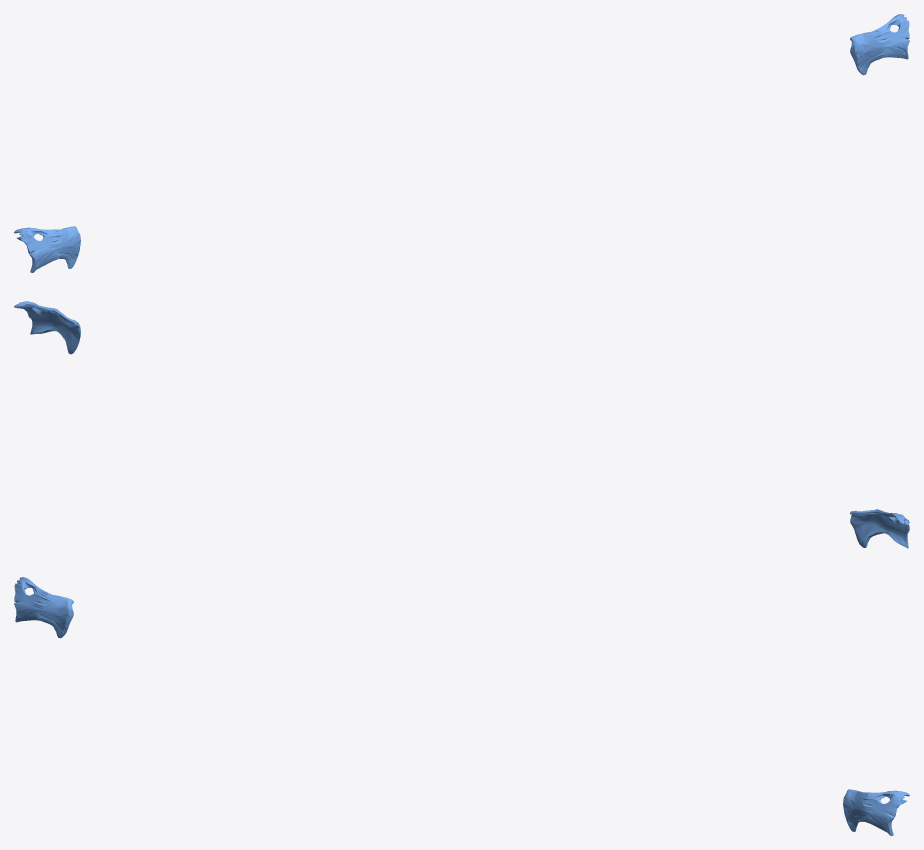
The model's file is supplement-wrist-hand-connective.glb.
3 renders of one model, top to bottom at view 1: azimuth 30°, elevation 25°; view 2: azimuth 150°, elevation 25°; view 3: azimuth 330°, elevation 25°, orthographic.
Parts seen in each view (by area): view 1: supplemental:flexor-retinaculum-of-wrist:isa:FJ1471M, supplemental:flexor-retinaculum-of-wrist:isa:FJ1471; view 2: supplemental:flexor-retinaculum-of-wrist:isa:FJ1471, supplemental:flexor-retinaculum-of-wrist:isa:FJ1471M; view 3: supplemental:flexor-retinaculum-of-wrist:isa:FJ1471, supplemental:flexor-retinaculum-of-wrist:isa:FJ1471M.
Boxes of the visible parts, x1=… form: supplemental:flexor-retinaculum-of-wrist:isa:FJ1471M: x1=850, y1=14, x2=909, y2=75; supplemental:flexor-retinaculum-of-wrist:isa:FJ1471: x1=14, y1=226, x2=80, y2=272; supplemental:flexor-retinaculum-of-wrist:isa:FJ1471: x1=850, y1=509, x2=909, y2=548; supplemental:flexor-retinaculum-of-wrist:isa:FJ1471M: x1=14, y1=301, x2=80, y2=354; supplemental:flexor-retinaculum-of-wrist:isa:FJ1471: x1=14, y1=577, x2=73, y2=638; supplemental:flexor-retinaculum-of-wrist:isa:FJ1471M: x1=843, y1=789, x2=909, y2=835.
Size of the model in its own units: 0.5418 by 0.027 by 0.0139.
